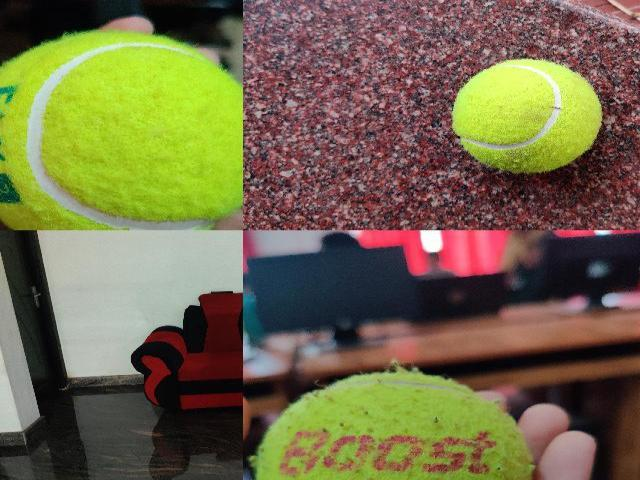tennis-ball: (0, 31, 242, 229), (253, 371, 532, 479), (453, 59, 601, 172)
